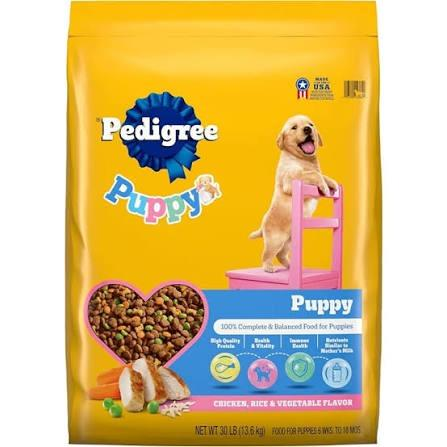non-dog: (196, 172, 224, 206)
puppy-dog: (248, 114, 339, 276)
